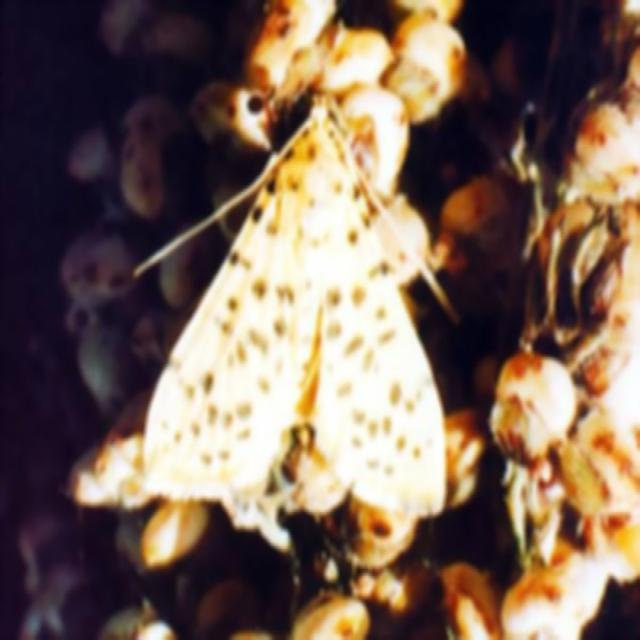peach borer: (137, 106, 457, 522)
